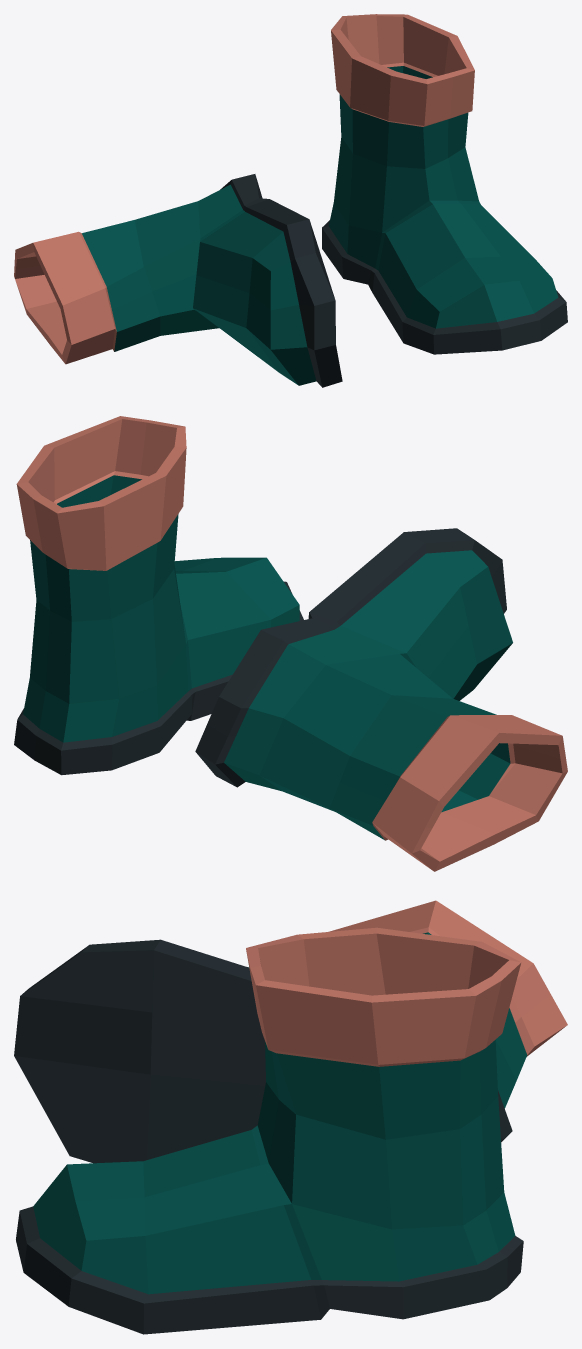
Rendered from Boots.fbx.
The picture shows the model from 3 angles, top to bottom: view 1: azimuth 30°, elevation 25°; view 2: azimuth 150°, elevation 25°; view 3: azimuth 270°, elevation 25°; orthographic projection. The views are drawn at different scales.
Visible parts, largest first — view 1: Boots; view 2: Boots; view 3: Boots.
Part boxes in pixels (left/top/right/bottom): Boots: left=14, top=14, right=567, bottom=387; Boots: left=14, top=416, right=567, bottom=871; Boots: left=14, top=900, right=567, bottom=1334.
Bounding box in the file's own units: 44.36 × 34.28 × 22.51.
